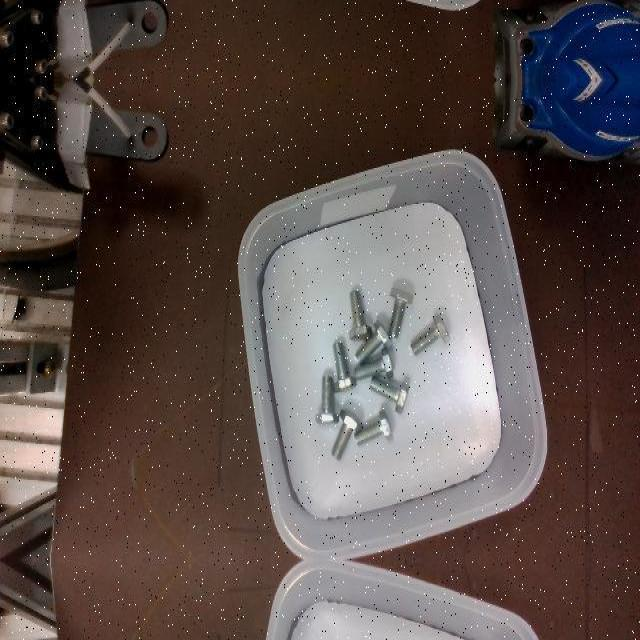screw: (354, 318, 392, 364), (410, 313, 450, 355), (330, 408, 362, 460), (369, 375, 409, 415), (354, 408, 393, 446), (354, 347, 393, 381), (387, 287, 413, 337), (314, 374, 338, 424), (332, 341, 356, 391), (348, 289, 372, 339)
